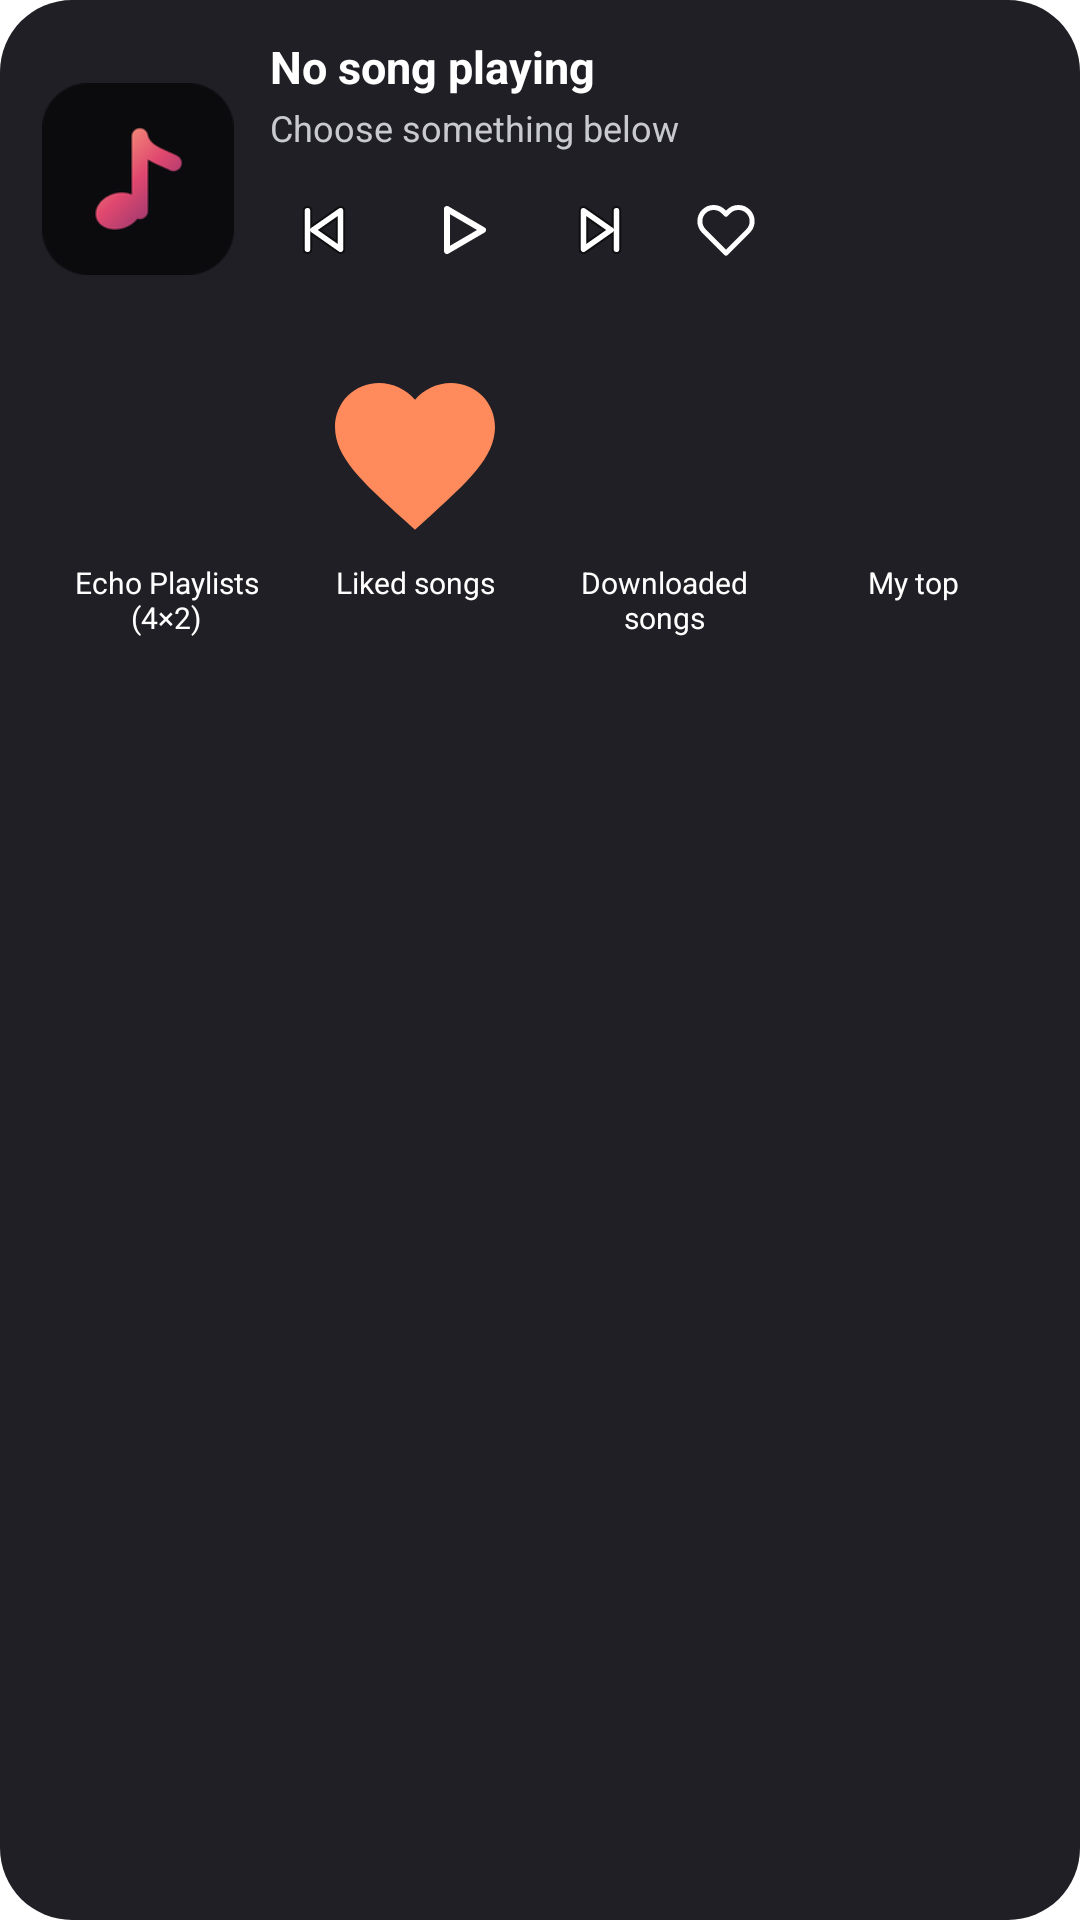

Where icons sit on this 1080 x 1920 app screen, as bbox=(x1, y1, x2, y2):
Like: bbox=(697, 205, 755, 256)
Next: bbox=(580, 208, 620, 252)
Play/Pause: bbox=(444, 206, 486, 254)
Previous: bbox=(304, 208, 344, 252)
